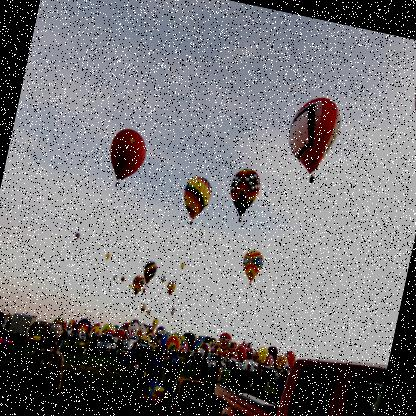Car: (198, 350, 228, 378), (94, 333, 119, 359), (132, 338, 148, 360), (0, 312, 8, 339), (155, 344, 163, 354), (78, 332, 86, 342), (165, 346, 172, 356), (188, 353, 193, 358), (132, 340, 136, 346)
